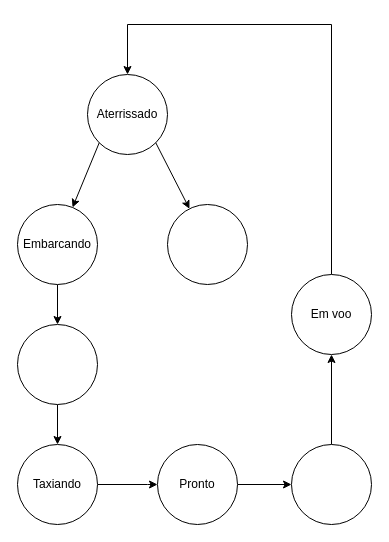
The diagram is 389 pixels wide and 542 high, and some of its shapes have lost their labels. The centre of each missing label's shape, as x and y in pixels:
Autorizado: point 331,484
Cancelado: point 207,244
Programado: point 57,364
